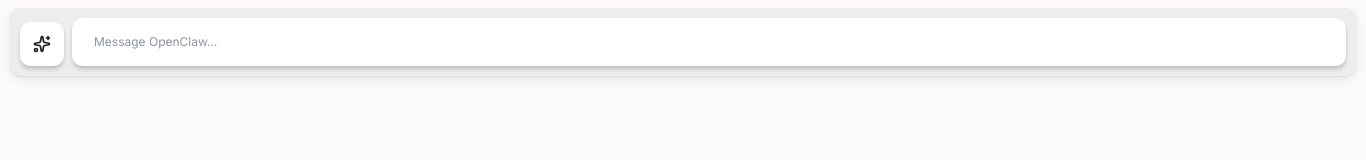
the chat composer in the dock › shows the send button only once there is something to send
This screenshot has width=1366, height=160.
Type "hi" into the text box with test id "chat-dock-input" at (709, 42), box [94, 31, 1324, 53]
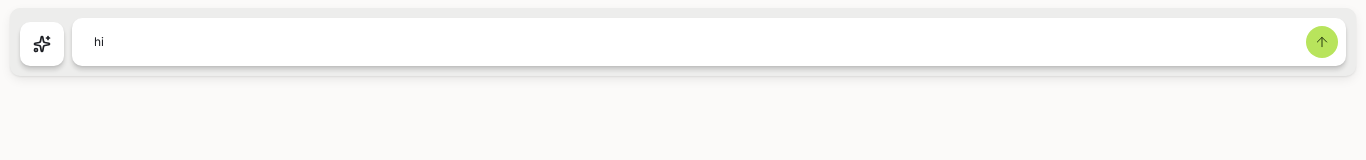
Expected: the button named "Send" is shown, [1306, 26, 1338, 58]
